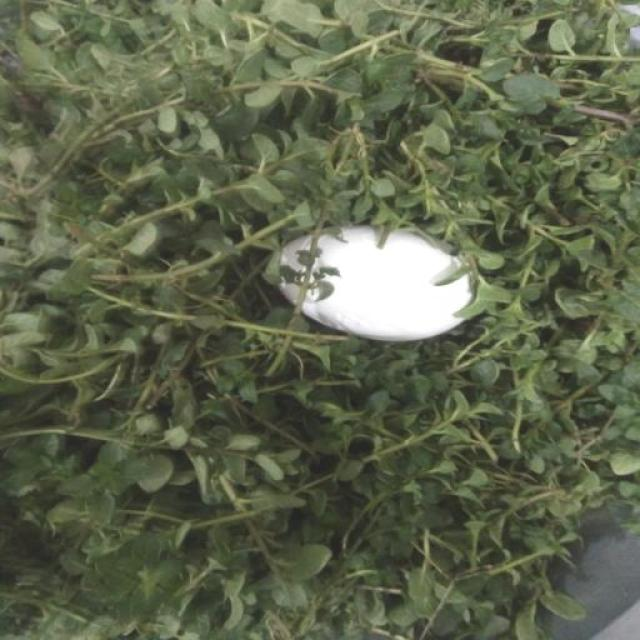telur: (246, 199, 489, 362)
